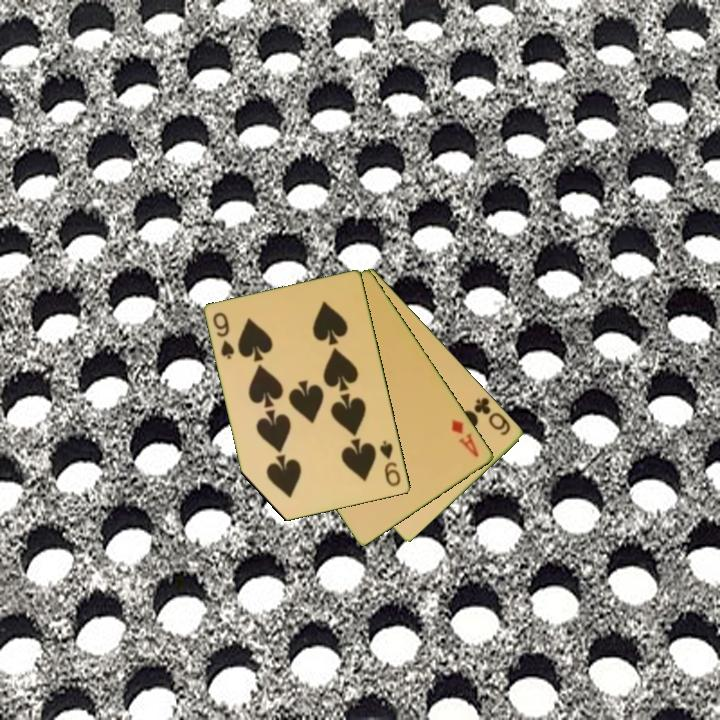6c: (471, 394, 514, 438)
9s: (376, 437, 404, 490), (210, 309, 238, 362)
Ad: (448, 416, 482, 460)
